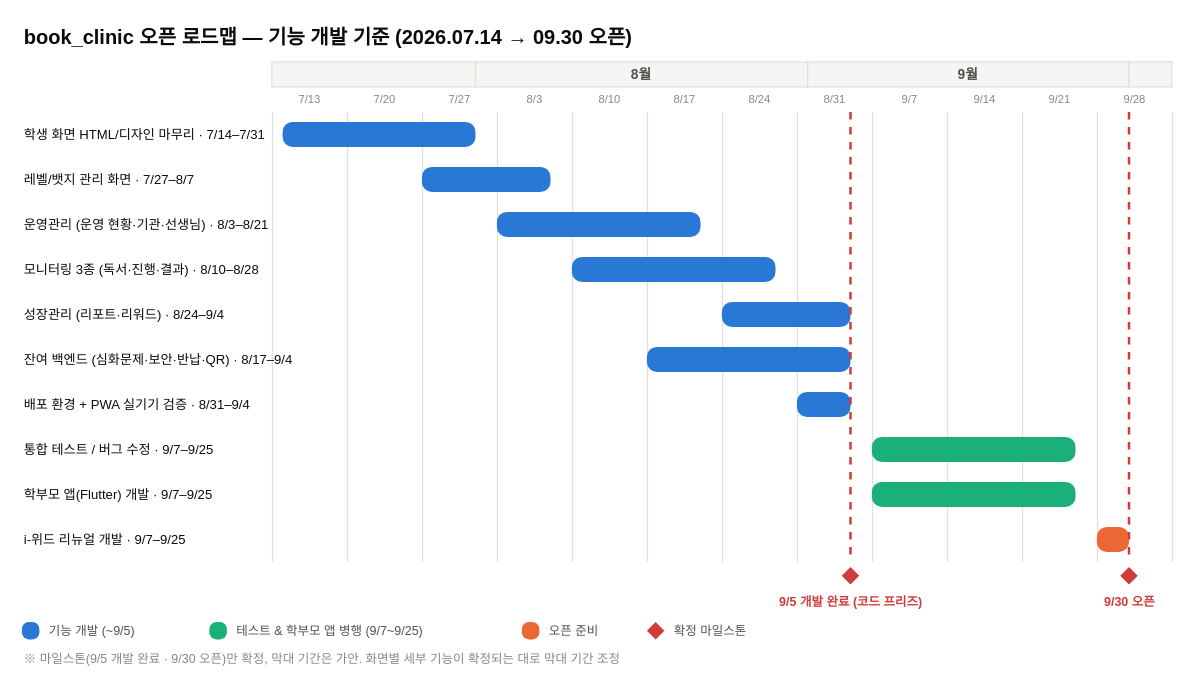
This 1200x690 diagram has some shape labels left out. Here are the shapes that lost their labels. From the top down, the box of each, then its label:
(271, 61, 476, 87): 7월
(1128, 61, 1172, 87): 10월
